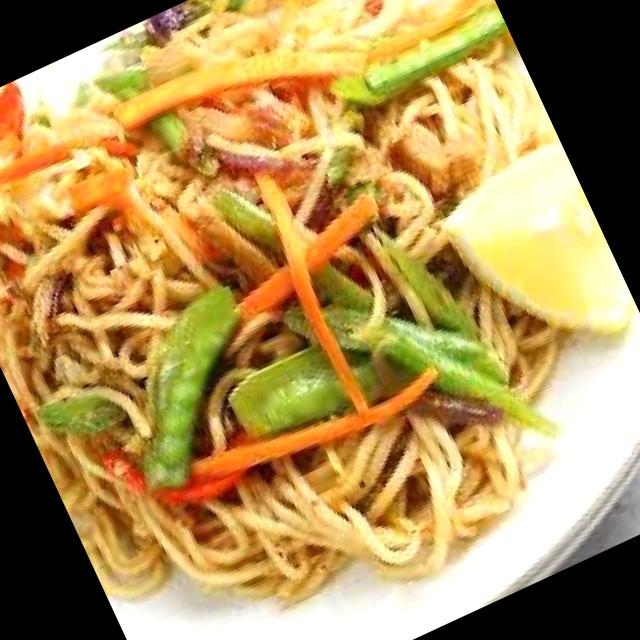pancit bihon: (0, 0, 562, 594)
